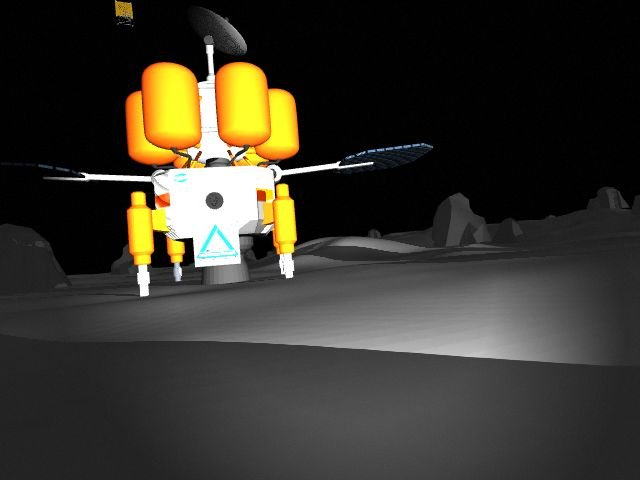basemarker: (197, 223, 239, 259)
